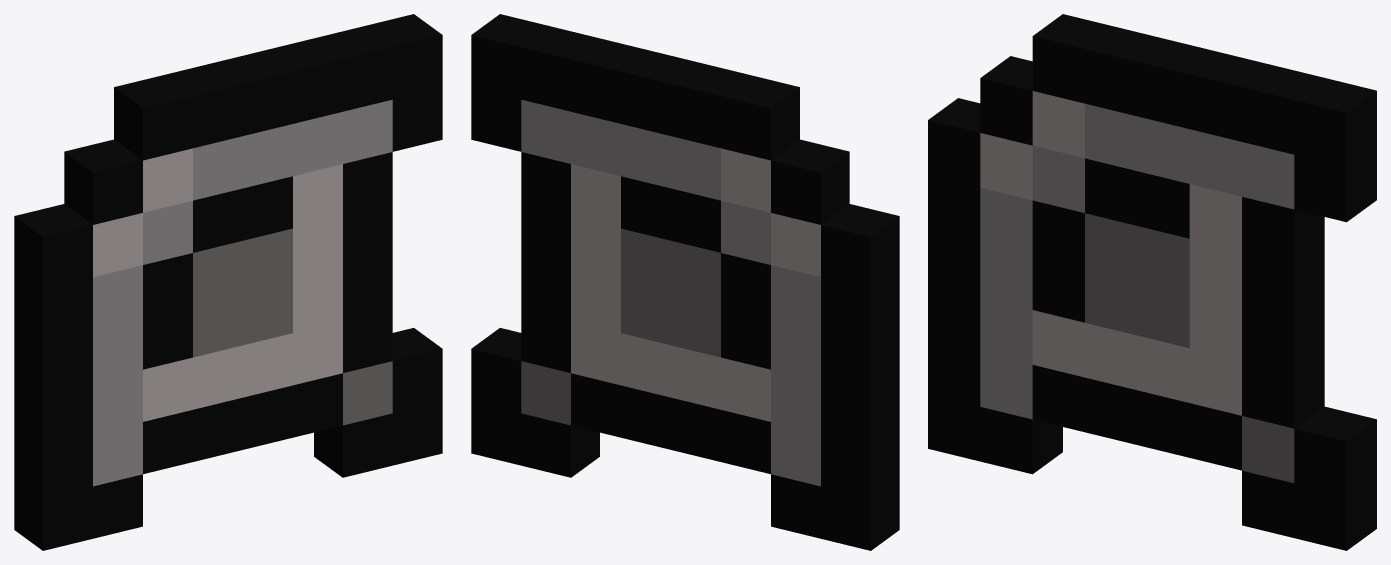
File: Stone Crossbowmetacharging4.glb
3 views of the same model, side by side, from view 1: azimuth 30°, elevation 25°; view 2: azimuth 150°, elevation 25°; view 3: azimuth 330°, elevation 25° (orthographic). The views are drawn at different scales.
Parts seen in each view (by area): view 1: generated(Clone); view 2: generated(Clone); view 3: generated(Clone).
Boxes of the visible parts, x1,y1,x2,y2 form: generated(Clone): (14, 14, 442, 550); generated(Clone): (471, 14, 899, 550); generated(Clone): (928, 14, 1376, 550).
Bounding box in the file's own units: 8 × 8 × 1.
1 material, 1 textured.
